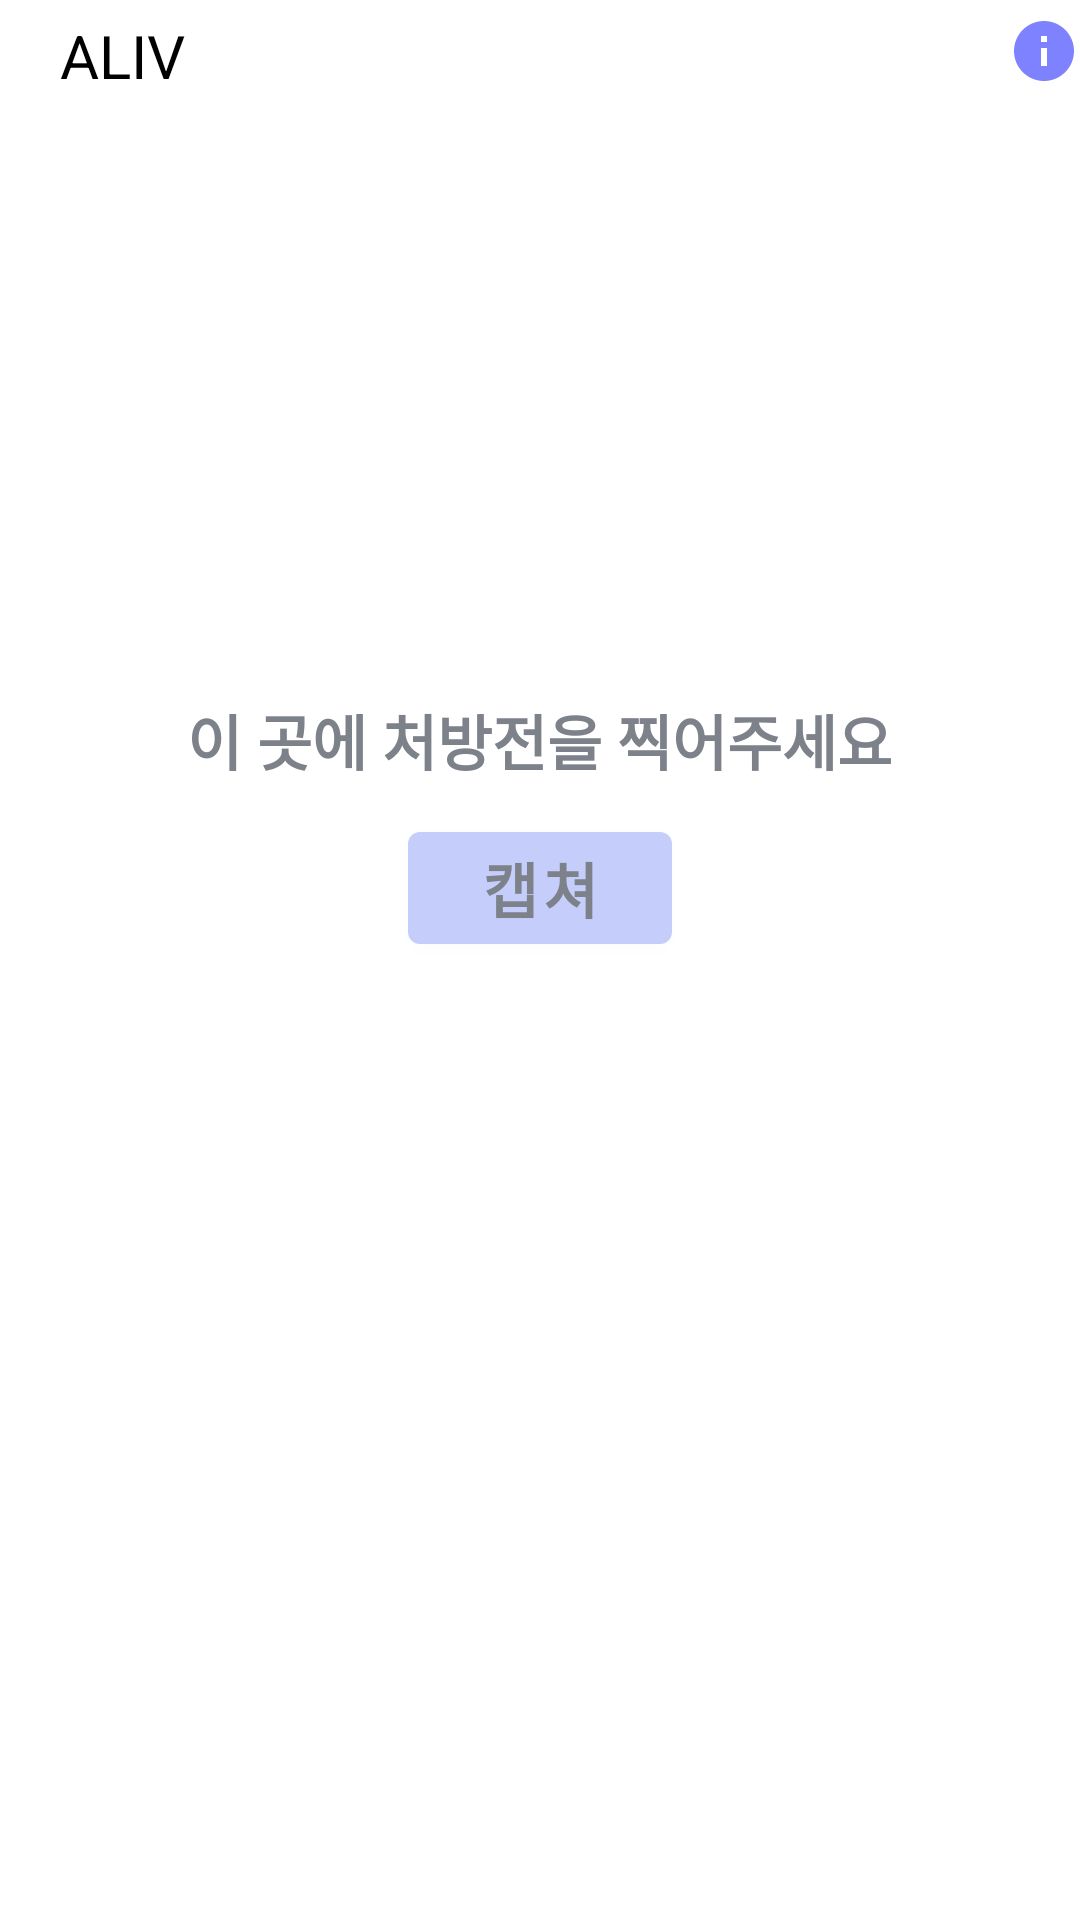

Icon bounding boxes for this 1080*1920 phone screenshot, format (x1, y1, x2, y2):
info: (1014, 21, 1074, 81)
